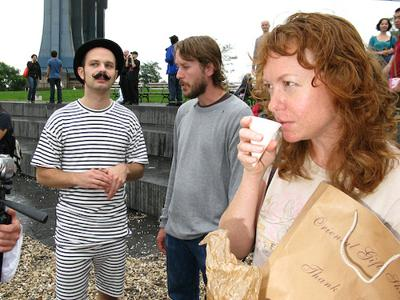person: (218, 11, 400, 268)
